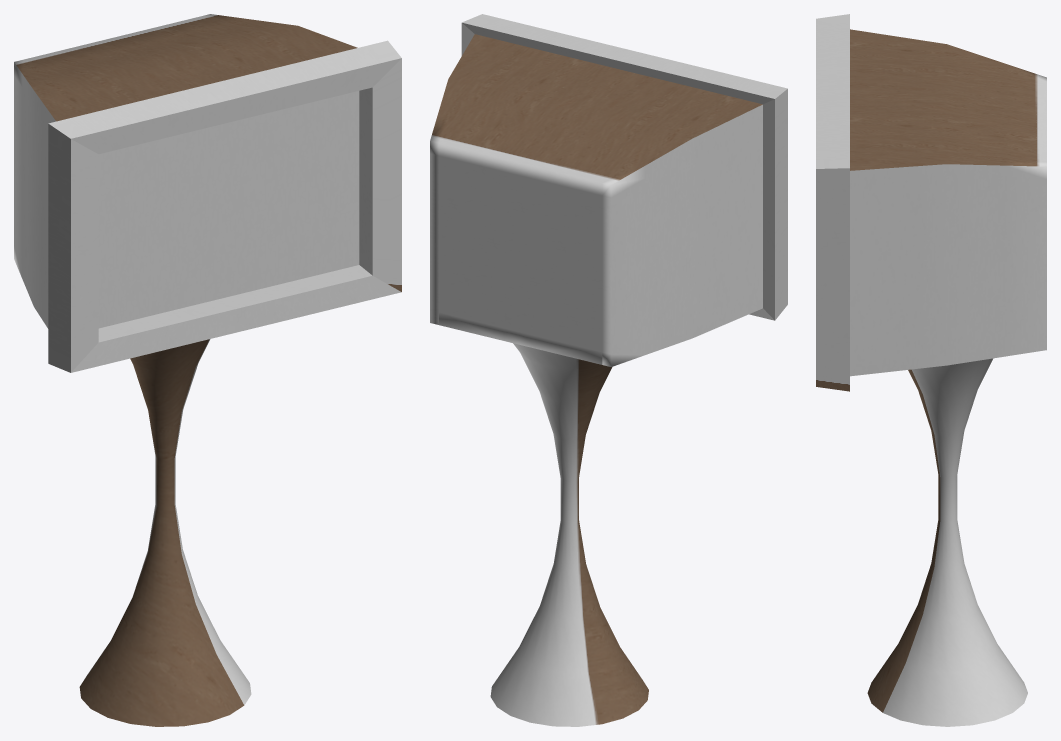
Rendered from Props_SmallSpeakers.fbx.
The picture shows the model from 3 angles, left to right: view 1: azimuth 30°, elevation 25°; view 2: azimuth 150°, elevation 25°; view 3: azimuth 270°, elevation 25°; orthographic projection. The views are drawn at different scales.
Visible parts, largest first — view 1: Props_SmallSpeakers; view 2: Props_SmallSpeakers; view 3: Props_SmallSpeakers.
Boxes of the visible parts, <box> form: Props_SmallSpeakers: <box>14,14,401,726</box>; Props_SmallSpeakers: <box>430,14,787,726</box>; Props_SmallSpeakers: <box>816,14,1046,726</box>.
Bounding box in the file's own units: 67.81 × 123 × 42.91.
